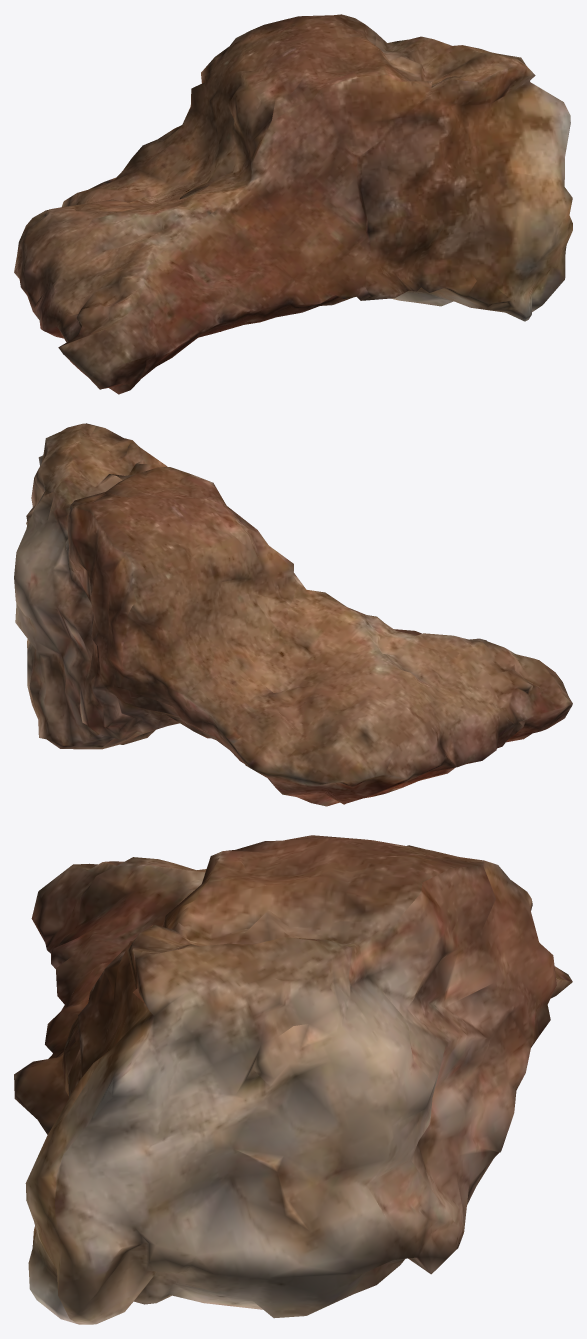
Rendered from stone_01.glb.
3 renders of one model, top to bottom at view 1: azimuth 30°, elevation 25°; view 2: azimuth 150°, elevation 25°; view 3: azimuth 270°, elevation 25°, orthographic. The views are drawn at different scales.
Visible parts, largest first — view 1: stone_01; view 2: stone_01; view 3: stone_01.
Part boxes in pixels (x1,y1,x2,y2): stone_01: (14,14,572,394); stone_01: (14,423,572,806); stone_01: (14,835,572,1324).
Size of the model in its own units: 0.1464 by 0.071 by 0.089.
Materials: 1 (1 with a texture image).
